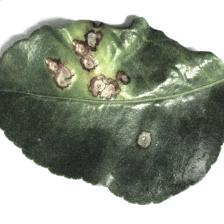canker: (44, 18, 130, 96)
